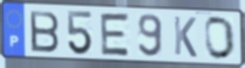5: (66, 9, 94, 57)
9: (136, 13, 163, 59)
B: (28, 9, 61, 54)
E: (99, 12, 131, 58)
K: (172, 15, 199, 59)
O: (203, 15, 237, 62)
